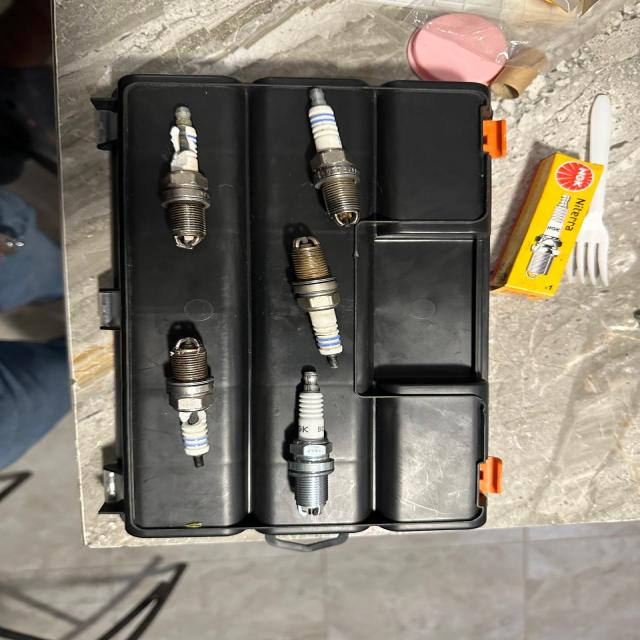damaged_spark-plug: (162, 323, 222, 474), (159, 102, 212, 258)
spark-plug: (300, 85, 369, 227), (287, 365, 333, 518), (293, 235, 344, 360)
